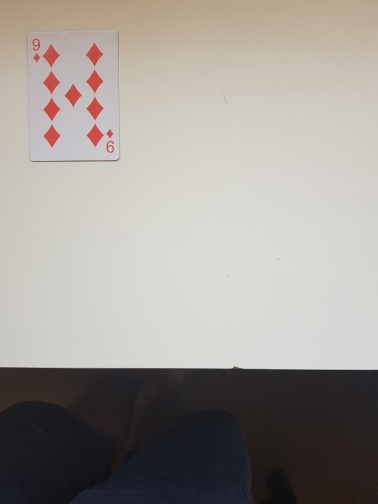nine: (27, 30, 120, 162)
